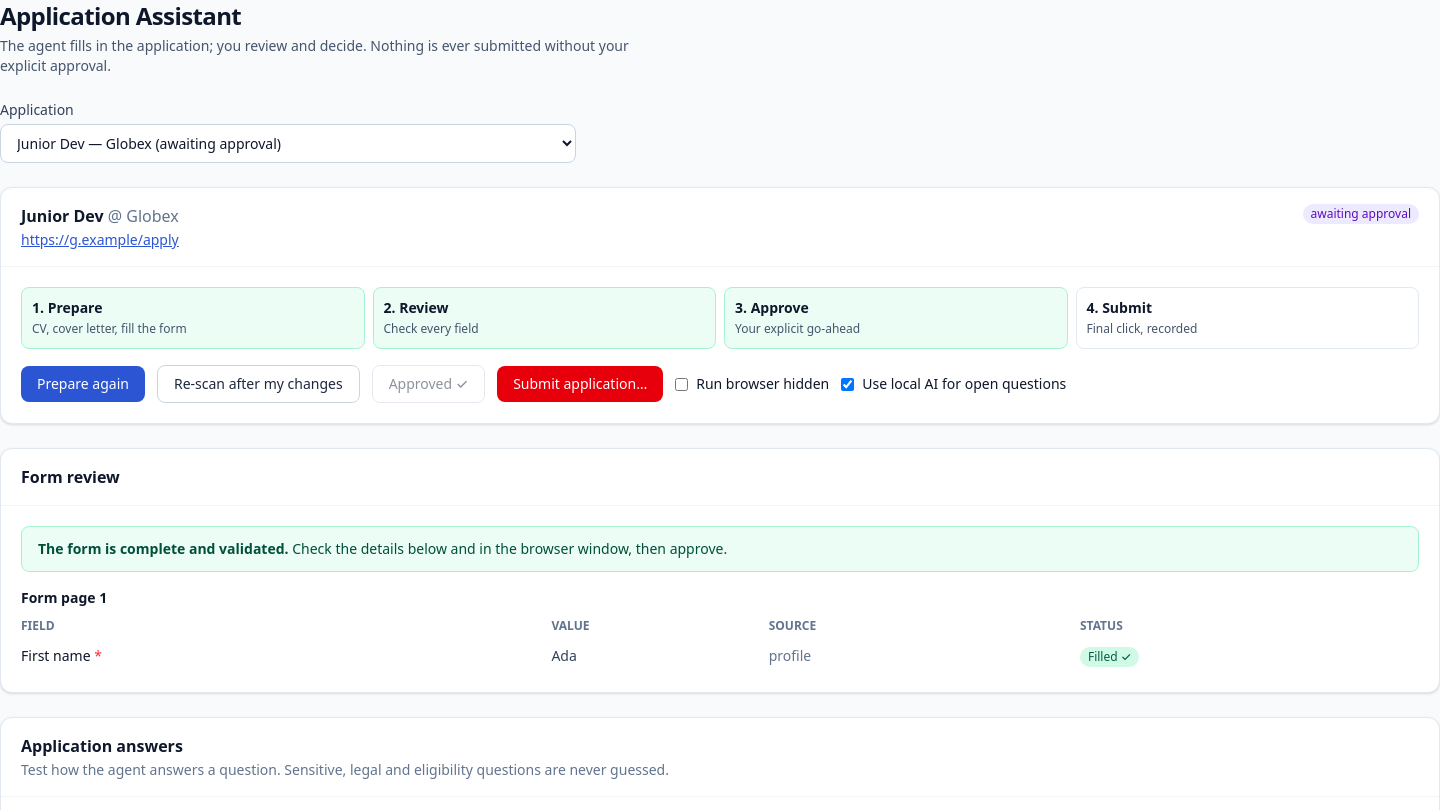
Test: ApplicationAssistantPage — approval gate › requires a confirmation dialog, and cancelling sends nothing
Later steps or results of the test are not shown.
Step 1. Click the button "Submit application…" → [580, 384], box left=497, top=366, right=663, bottom=402
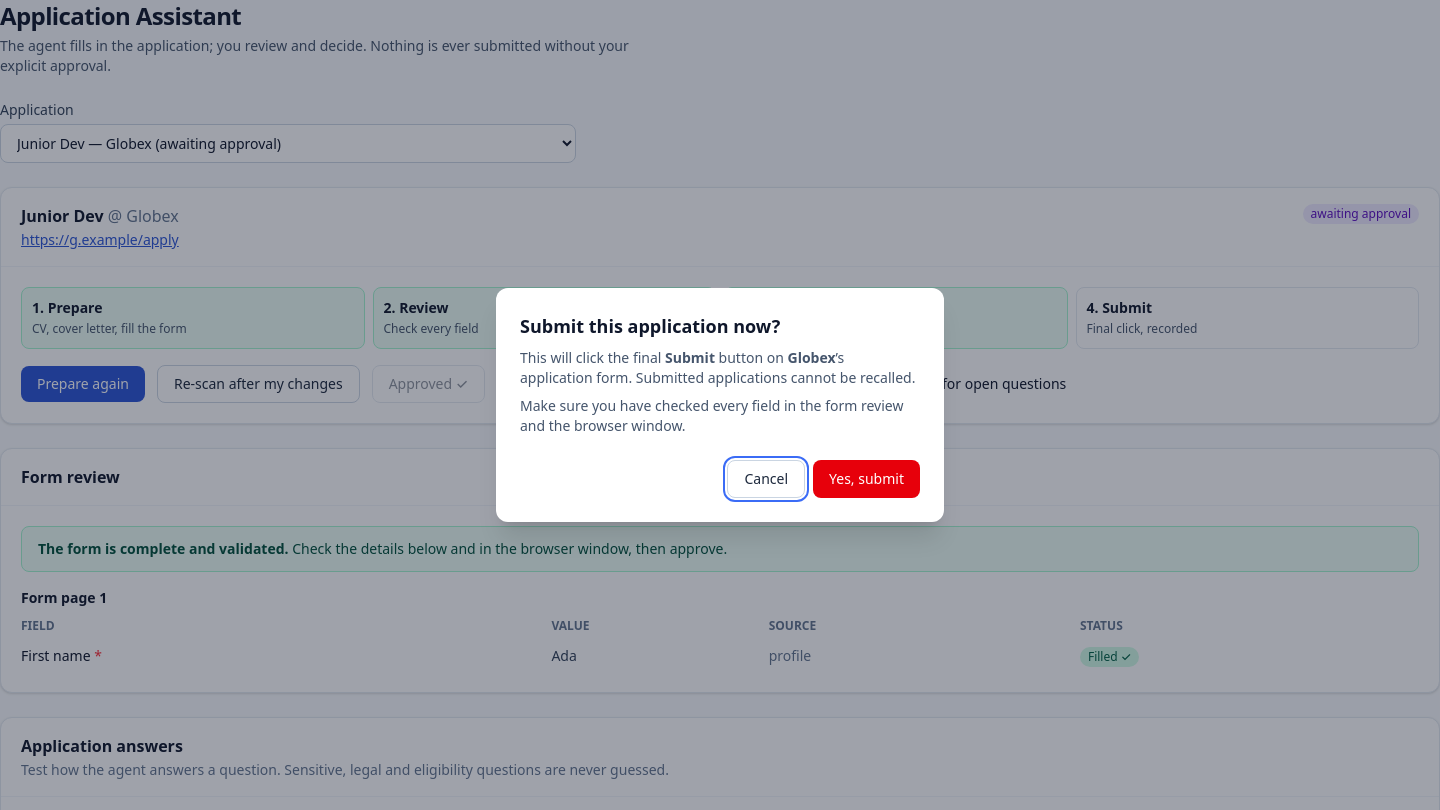
Expected: the text "cannot be recalled" is shown, left=520, top=348, right=915, bottom=387
